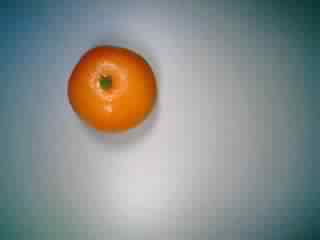orange: (63, 41, 158, 137)
